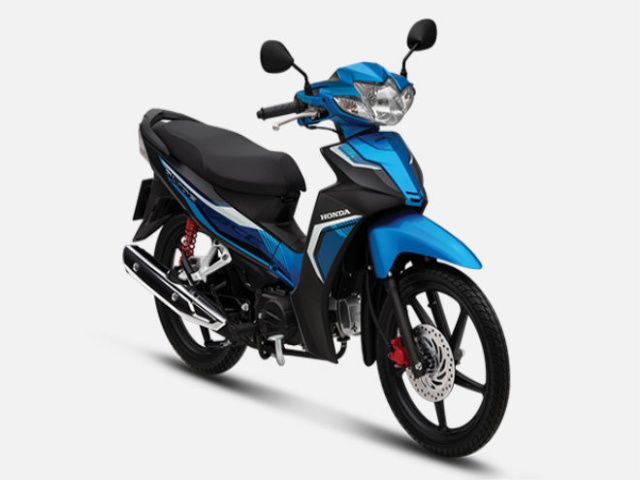Xe_may: (121, 15, 514, 458)
